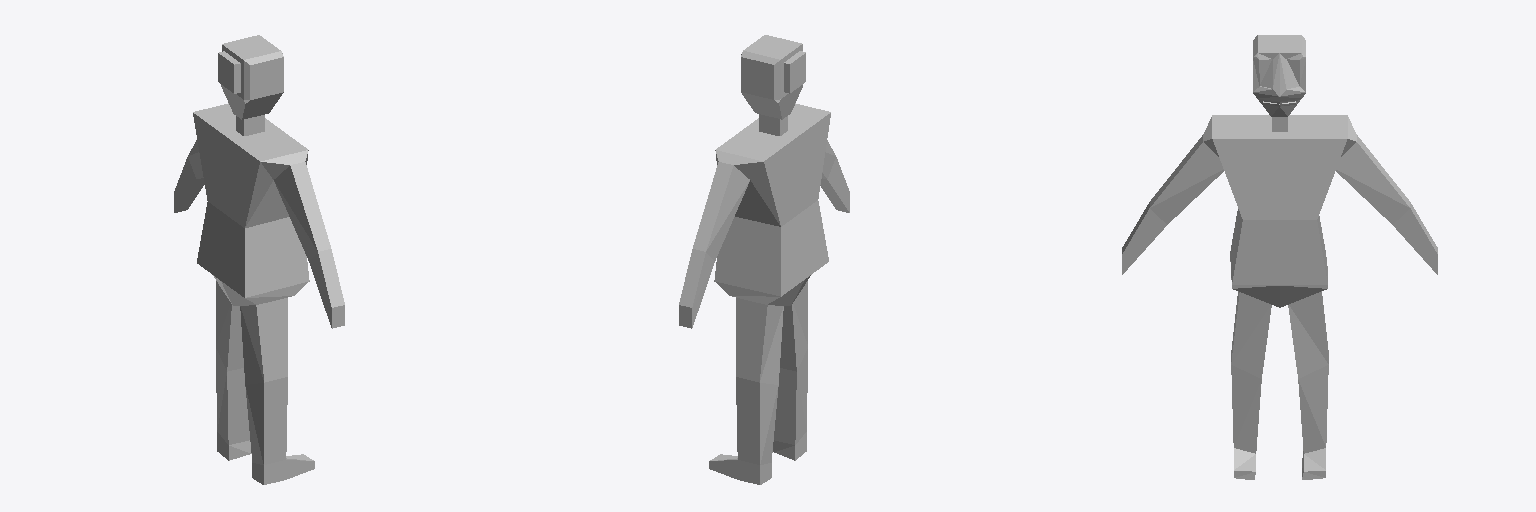
Rendered from shopkeep.obj.
3 views of the same model, side by side, from view 1: azimuth 30°, elevation 25°; view 2: azimuth 150°, elevation 25°; view 3: azimuth 270°, elevation 25° (orthographic).
Visible parts, largest first — view 1: Cube.001, Cube; view 2: Cube.001, Cube; view 3: Cube.001, Cube.
Part boxes in pixels (x1,y1,x2,y2): Cube.001: (174,103,344,484); Cube: (218,35,283,119); Cube.001: (679,103,849,484); Cube: (741,35,805,119); Cube.001: (1122,115,1437,479); Cube: (1253,35,1305,116).
Size of the model in its own units: 0.4964 by 2.74 by 1.87.